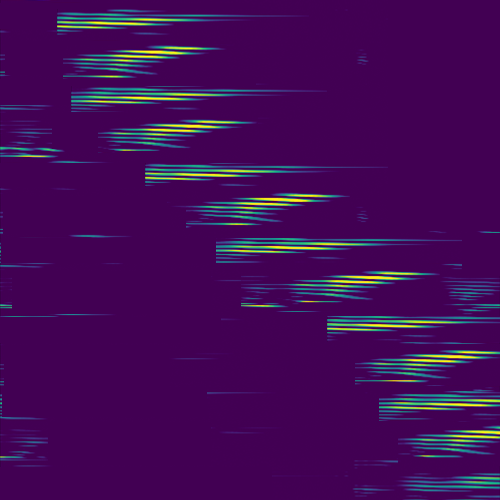semblance: (69, 42, 209, 82), (285, 265, 423, 305), (105, 116, 245, 154), (194, 191, 334, 228), (369, 347, 500, 385), (57, 7, 188, 34), (409, 426, 500, 460), (216, 238, 380, 256), (325, 315, 462, 335), (145, 163, 278, 182), (75, 88, 219, 105), (380, 396, 500, 413), (464, 474, 500, 483)
